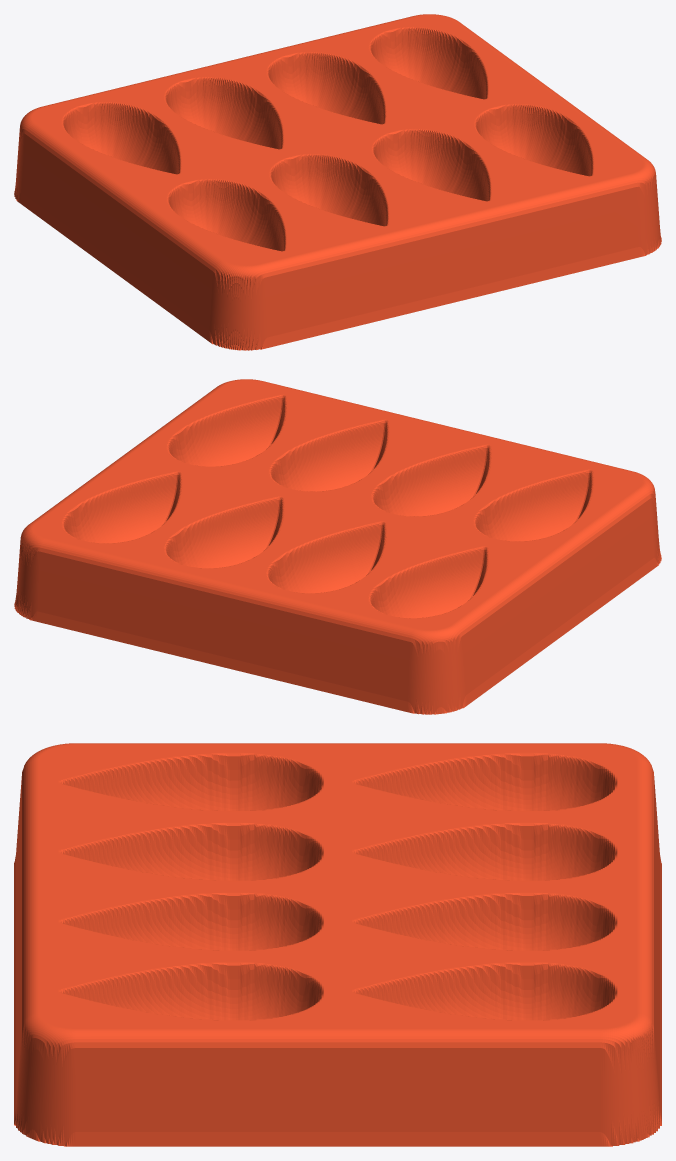
File: mold.glb
The picture shows the model from 3 angles, top to bottom: view 1: azimuth 30°, elevation 25°; view 2: azimuth 150°, elevation 25°; view 3: azimuth 270°, elevation 25°; orthographic projection. The views are drawn at different scales.
Parts seen in each view (by area): view 1: geometry_0; view 2: geometry_0; view 3: geometry_0.
Boxes of the visible parts, x1=… form: geometry_0: x1=14, y1=14, x2=661, y2=350; geometry_0: x1=14, y1=379, x2=661, y2=714; geometry_0: x1=14, y1=743, x2=661, y2=1146.
Bounding box in the file's own units: 0.1064 × 0.0175 × 0.0956.
